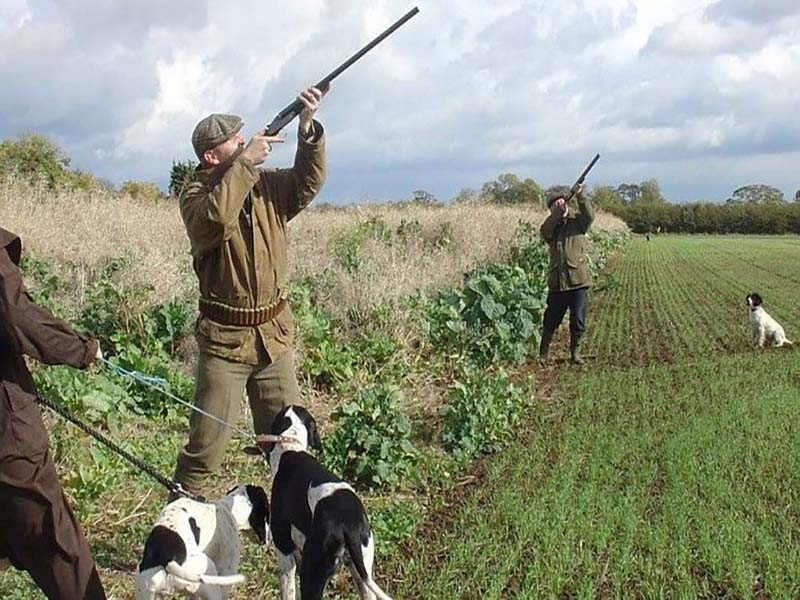cacciatore: (144, 1, 402, 399), (531, 150, 604, 370)
cane da caccia: (260, 402, 398, 600), (124, 466, 270, 600), (738, 282, 797, 359)
fucile: (219, 3, 430, 150), (557, 134, 605, 213)
